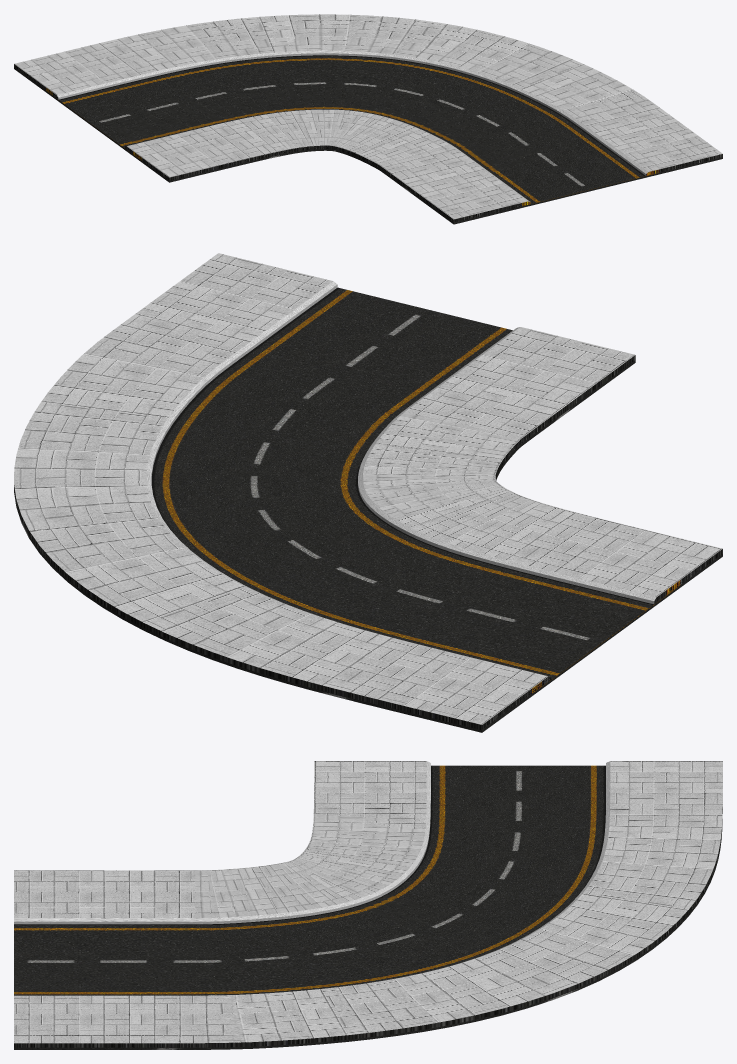
The model's file is roadCurvedSidewalk.fbx.
3 renders of one model, top to bottom at view 1: azimuth 30°, elevation 25°; view 2: azimuth 150°, elevation 25°; view 3: azimuth 270°, elevation 25°, orthographic. The views are drawn at different scales.
Visible parts, largest first — view 1: road; view 2: road; view 3: road.
Boxes of the visible parts, x1,y1,x2,y2 form: road: (14,14,722,224); road: (14,253,722,732); road: (14,761,722,1049).
Bounding box in the file's own units: 3429 × 38.01 × 3641.
Materials: 3 (3 with a texture image).
